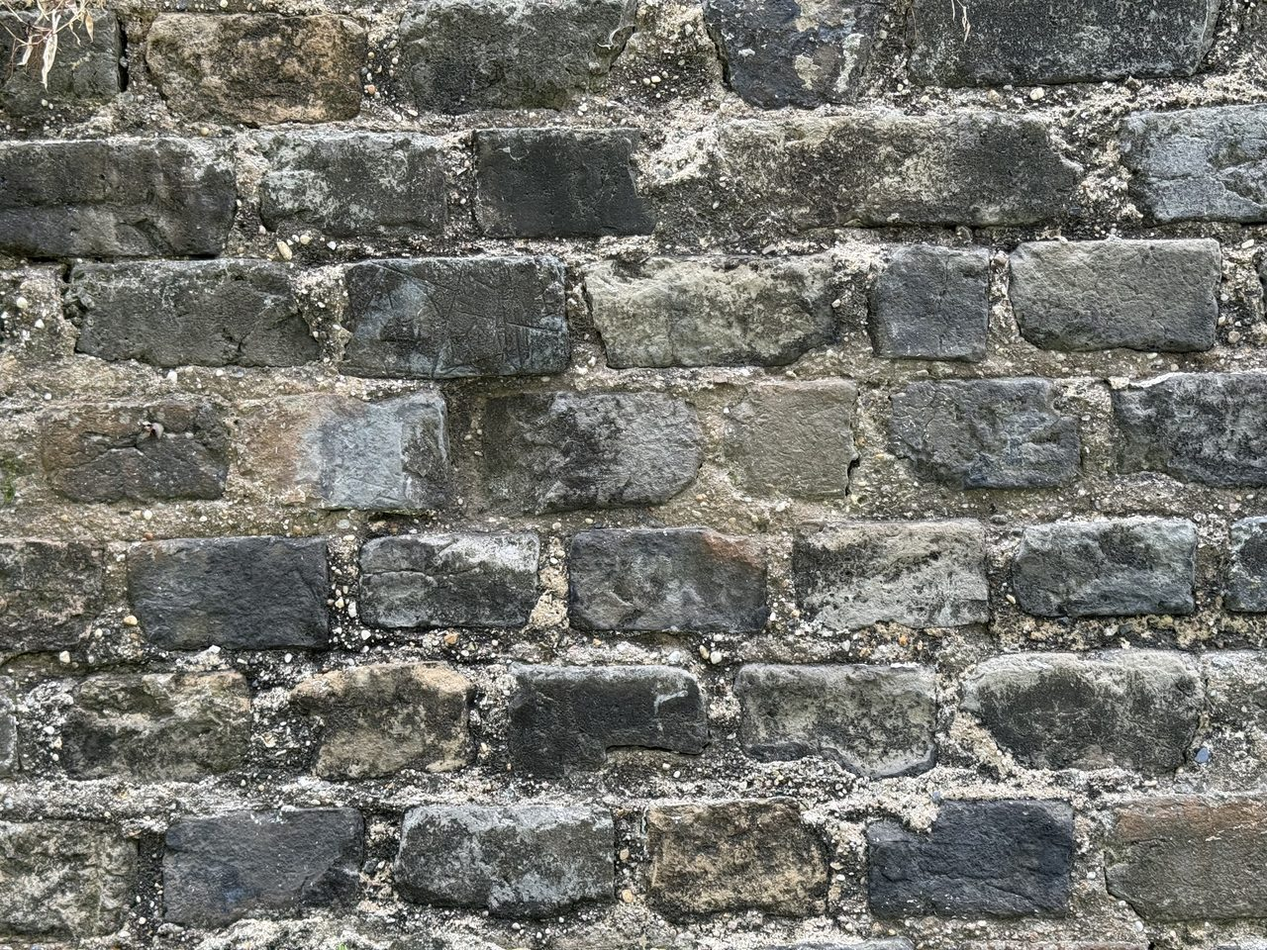brick_loss: (436, 374, 565, 534)
